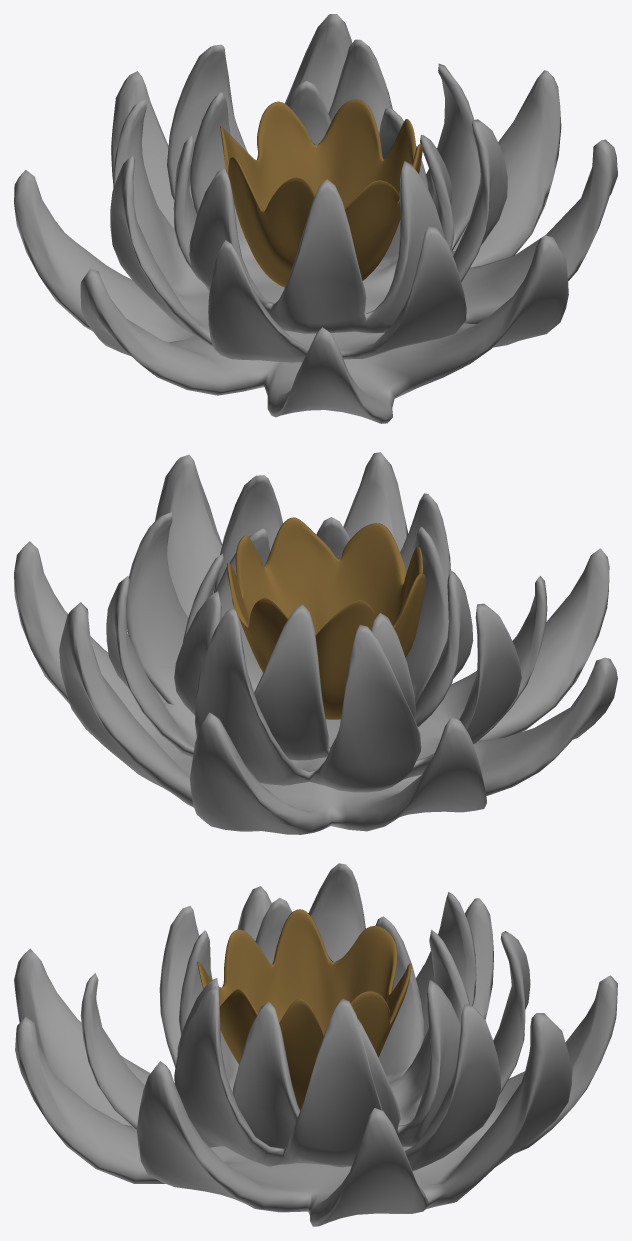
Rendered from LilyFlower_01_Thin.fbx.
The picture shows the model from 3 angles, top to bottom: view 1: azimuth 30°, elevation 25°; view 2: azimuth 150°, elevation 25°; view 3: azimuth 270°, elevation 25°; orthographic projection.
Parts seen in each view (by area): view 1: Lily_Flower_01_thin; view 2: Lily_Flower_01_thin; view 3: Lily_Flower_01_thin.
Part boxes in pixels (<box>): Lily_Flower_01_thin: <box>14,14,617,423</box>; Lily_Flower_01_thin: <box>14,452,617,834</box>; Lily_Flower_01_thin: <box>14,863,617,1226</box>.
Bounding box in the file's own units: 15.61 × 6.59 × 15.28.
